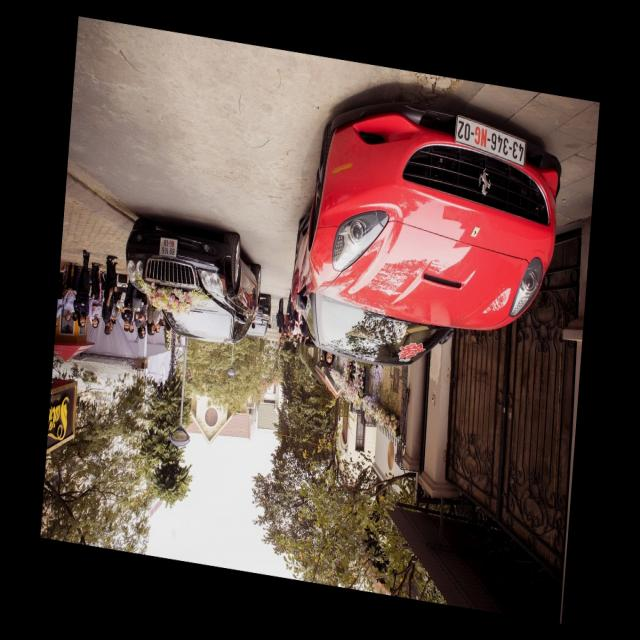bien_ngoai_giao: (454, 116, 528, 169), (159, 237, 177, 257)
